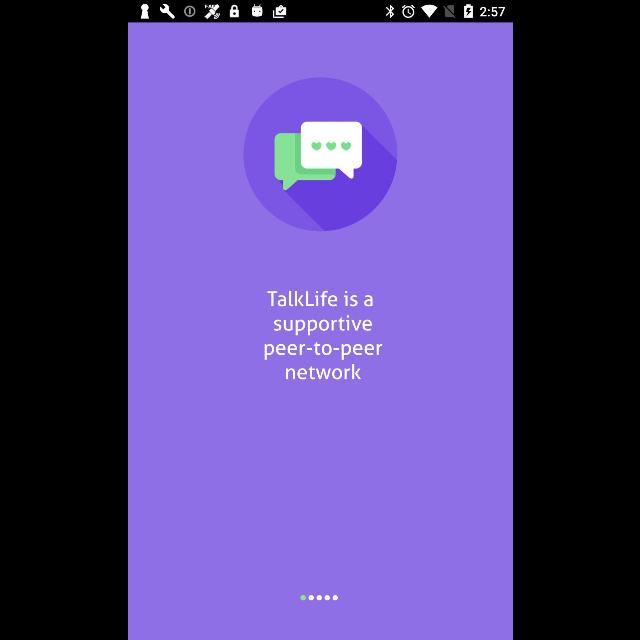image: (242, 78, 398, 232)
pageindicator: (299, 595, 337, 601)
text: (264, 290, 382, 380)
uppertaskbar: (128, 1, 512, 23)
